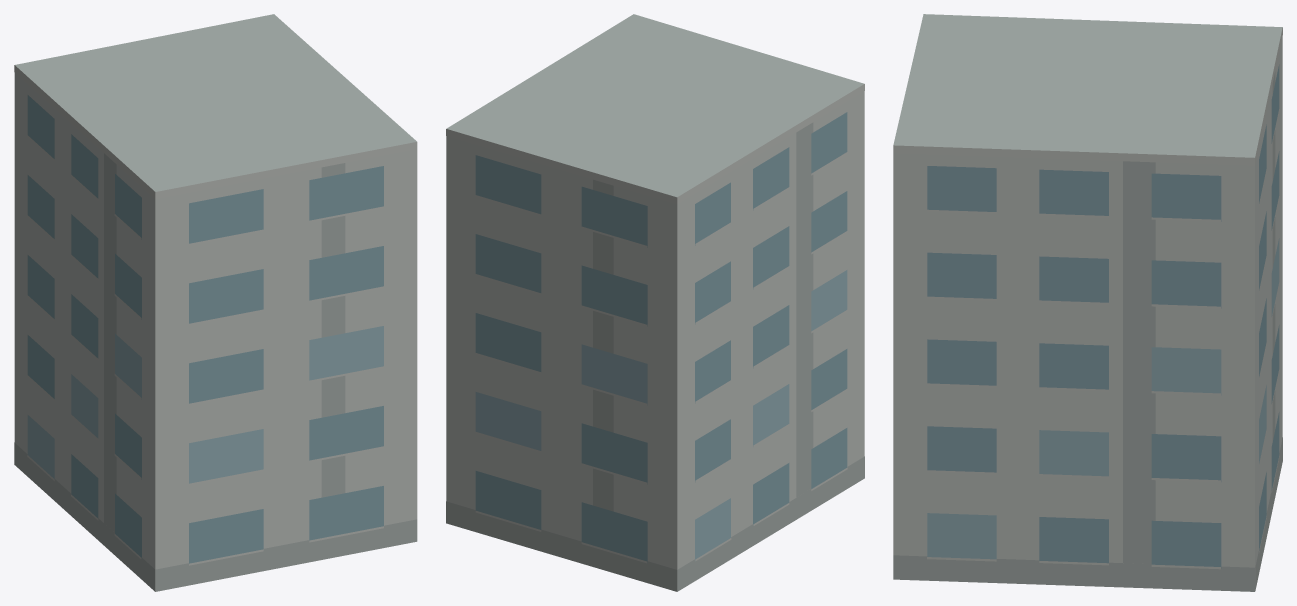
The model's file is survey-upis-33009749.glb.
3 views of the same model, side by side, from view 1: azimuth 30°, elevation 25°; view 2: azimuth 150°, elevation 25°; view 3: azimuth 270°, elevation 25° (orthographic). The views are drawn at different scales.
Parts seen in each view (by area): view 1: survey-upis-33009749.tmp; view 2: survey-upis-33009749.tmp; view 3: survey-upis-33009749.tmp.
Part boxes in pixels (bbox=[...]): survey-upis-33009749.tmp: bbox=[14, 14, 417, 591]; survey-upis-33009749.tmp: bbox=[446, 14, 864, 591]; survey-upis-33009749.tmp: bbox=[893, 14, 1282, 591].
Size of the model in its own units: 9.46 by 13.3 by 10.82.
